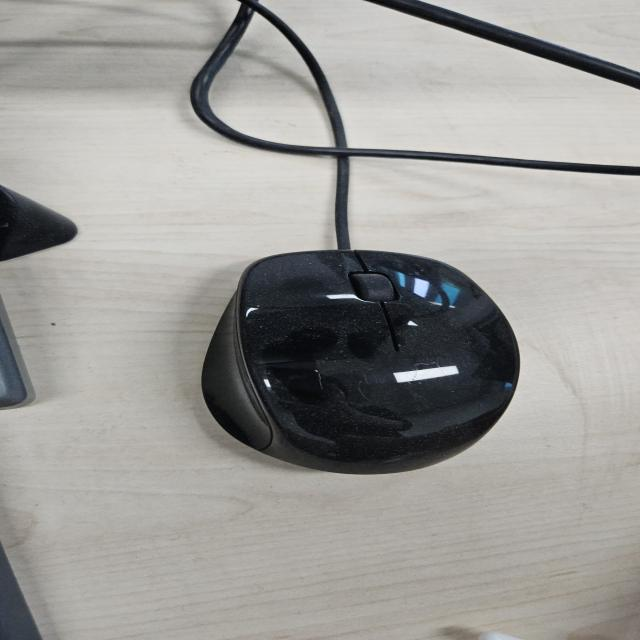Mouse: (198, 248, 523, 476)
